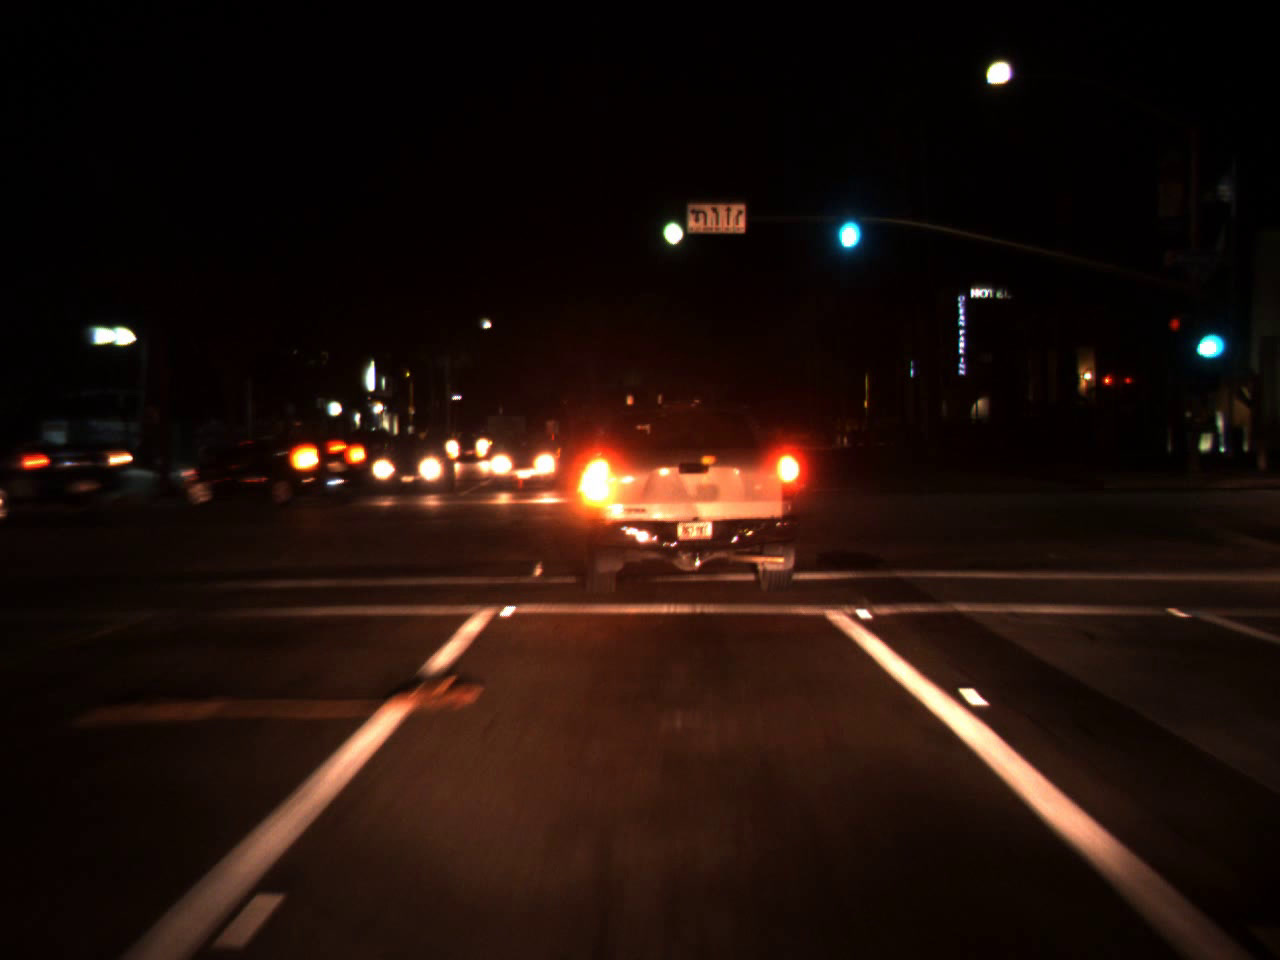go: (1185, 304, 1230, 367), (830, 187, 866, 259), (654, 187, 686, 256)
